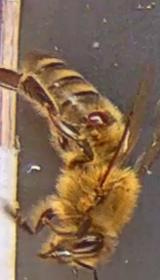varroa_mite: (75, 106, 117, 133)
